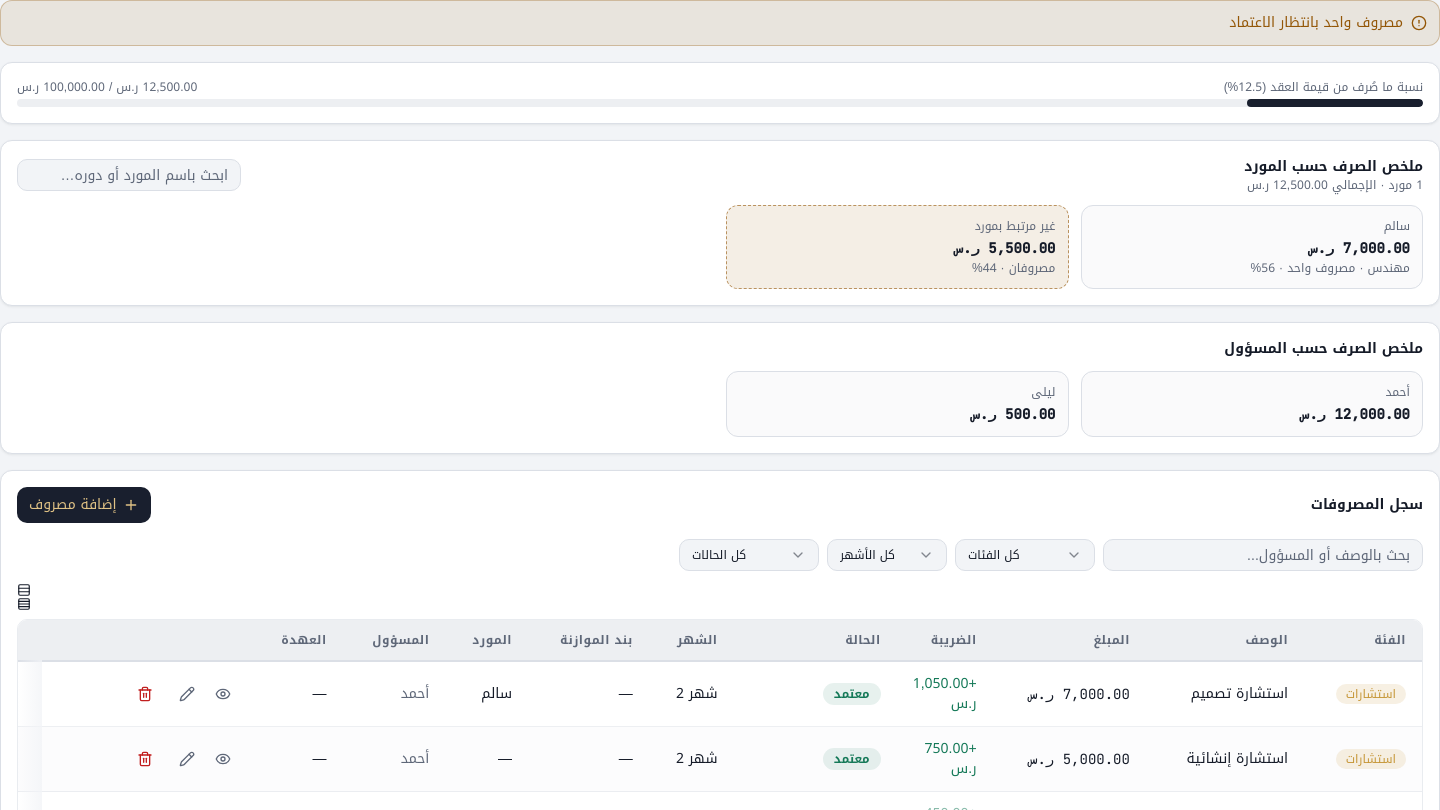
spend per resource › filters the table to a resource's expenses when its card is clicked, and back
The image size is (1440, 810).
Click the button "سالم" at [1326, 248], box x1=1080 y1=205 x2=1423 y2=289
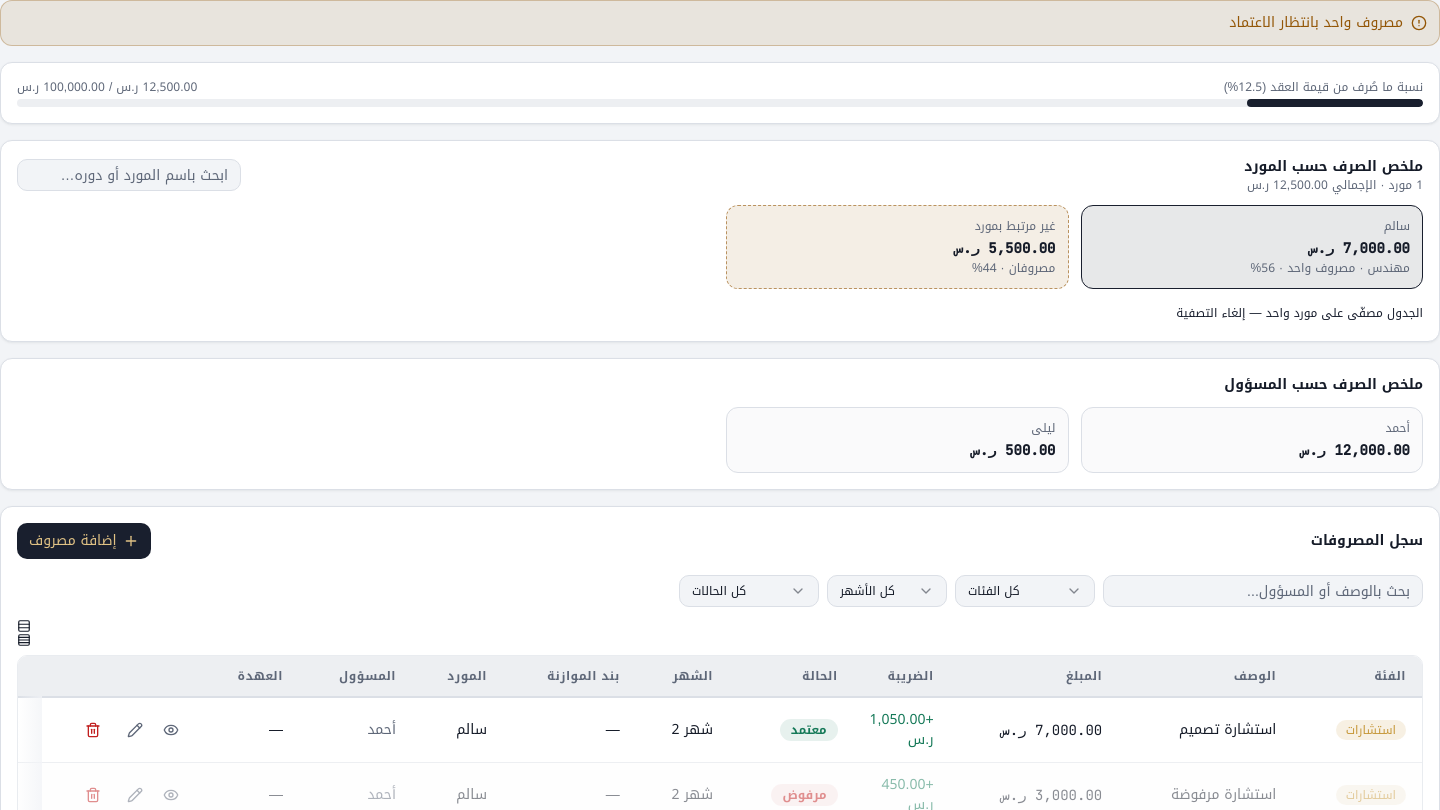
Click the button "الجدول مصفّى على مورد واحد — إلغاء التصفية" at [1300, 313], box x1=1176 y1=301 x2=1423 y2=325
(page scrolled)
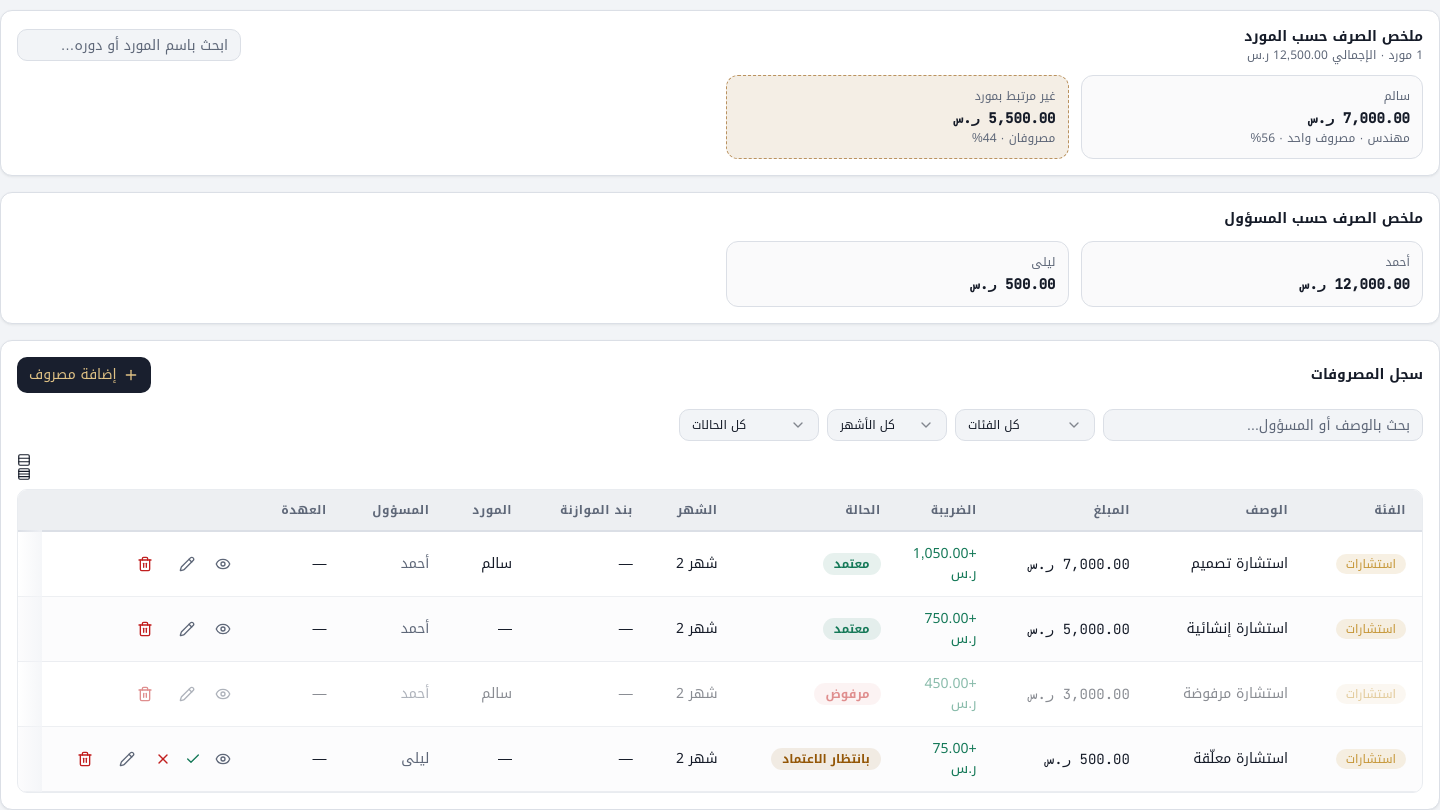
Expected: the text "استشارة معلّقة" is shown, x1=1193 y1=745 x2=1288 y2=772
